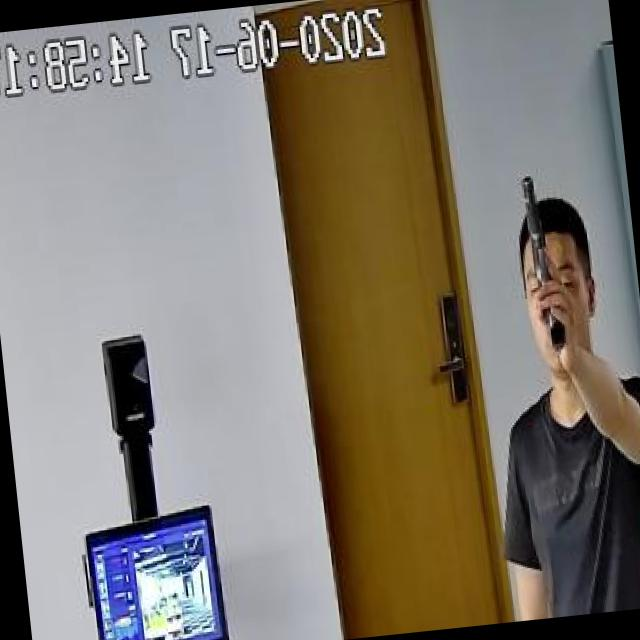Guns: (497, 156, 588, 371)
